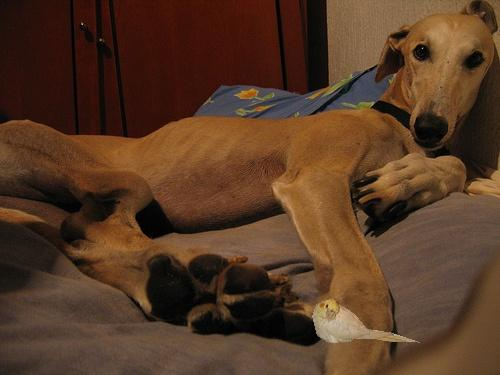tampered: (313, 299, 420, 343)
